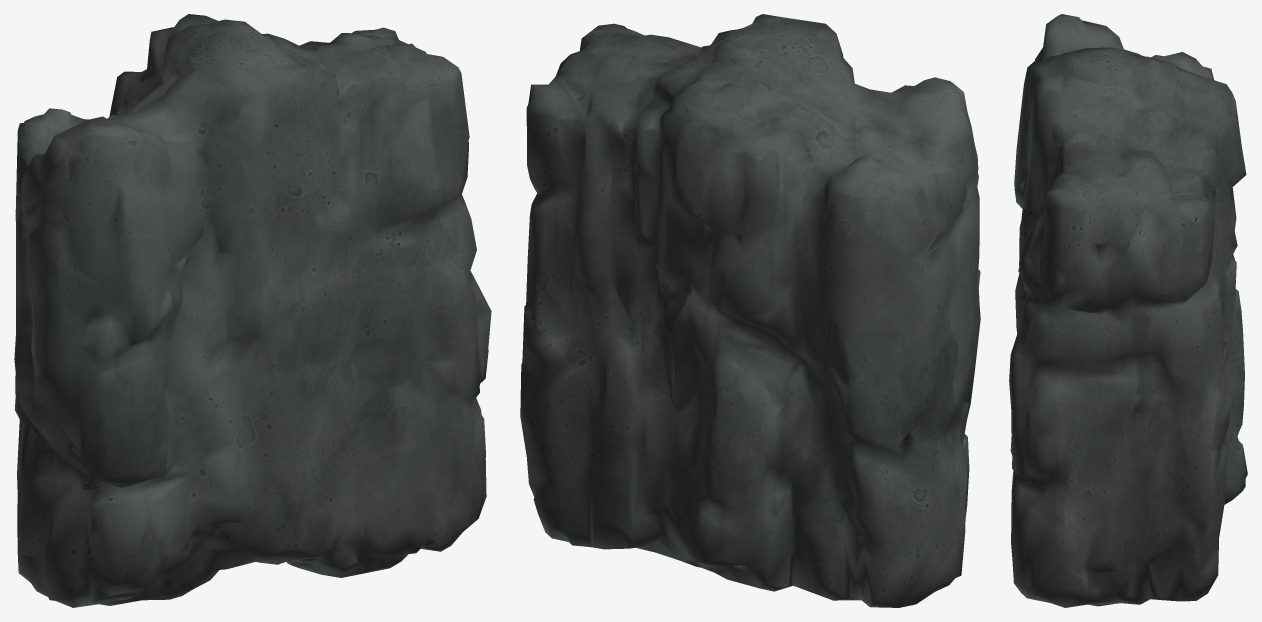
The model's file is Cliff_Sheer_V1.fbx.
The picture shows the model from 3 angles, left to right: view 1: azimuth 30°, elevation 25°; view 2: azimuth 150°, elevation 25°; view 3: azimuth 270°, elevation 25°; orthographic projection. The views are drawn at different scales.
Visible parts, largest first — view 1: SM_Cliff_Sheer_V1_.mo; view 2: SM_Cliff_Sheer_V1_.mo; view 3: SM_Cliff_Sheer_V1_.mo.
Boxes of the visible parts, x1,y1,x2,y2 form: SM_Cliff_Sheer_V1_.mo: (14,14,491,607); SM_Cliff_Sheer_V1_.mo: (520,14,980,607); SM_Cliff_Sheer_V1_.mo: (1009,14,1247,607).
Size of the model in its own units: 1355 by 1653 by 731.
